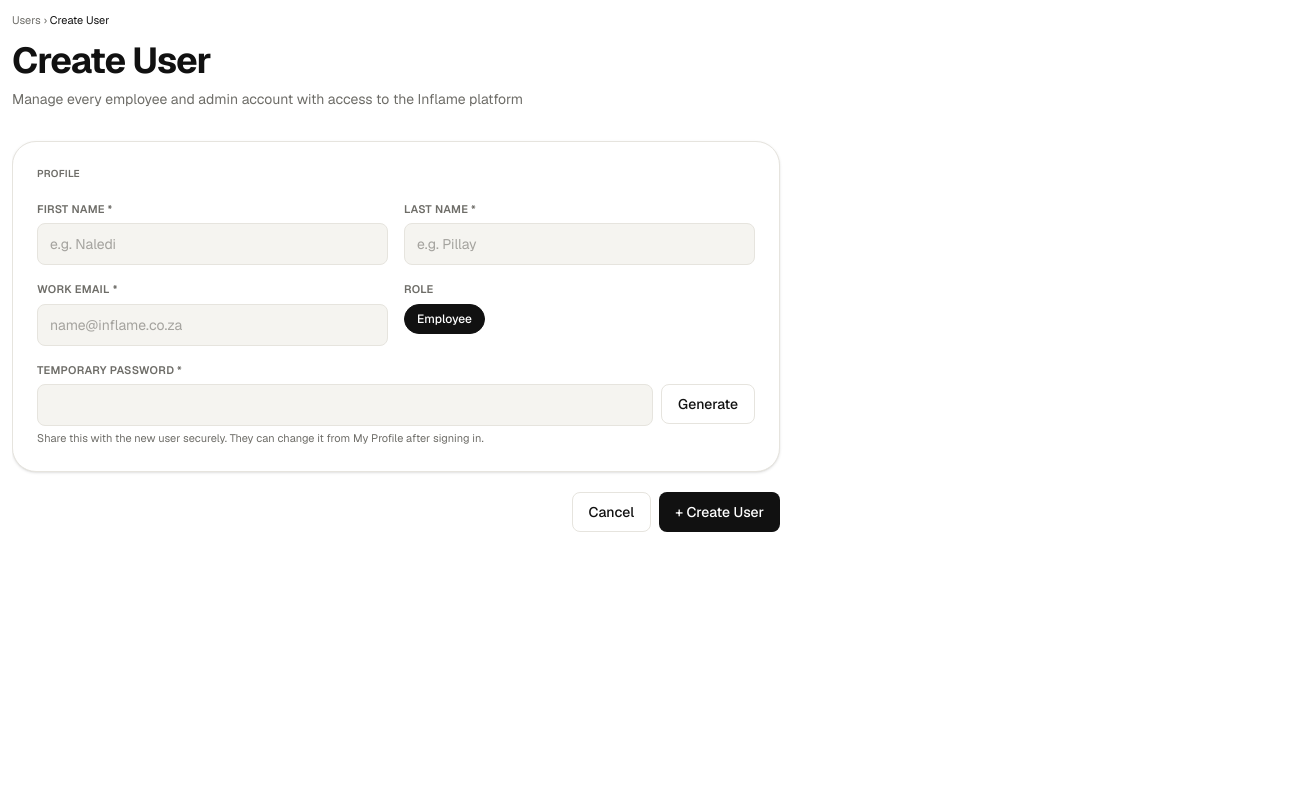
validation › rejects a missing first name
Type "X" into the field labelled "Last Name *".
click(580, 244); type("X")  # box [404,223,755,265]
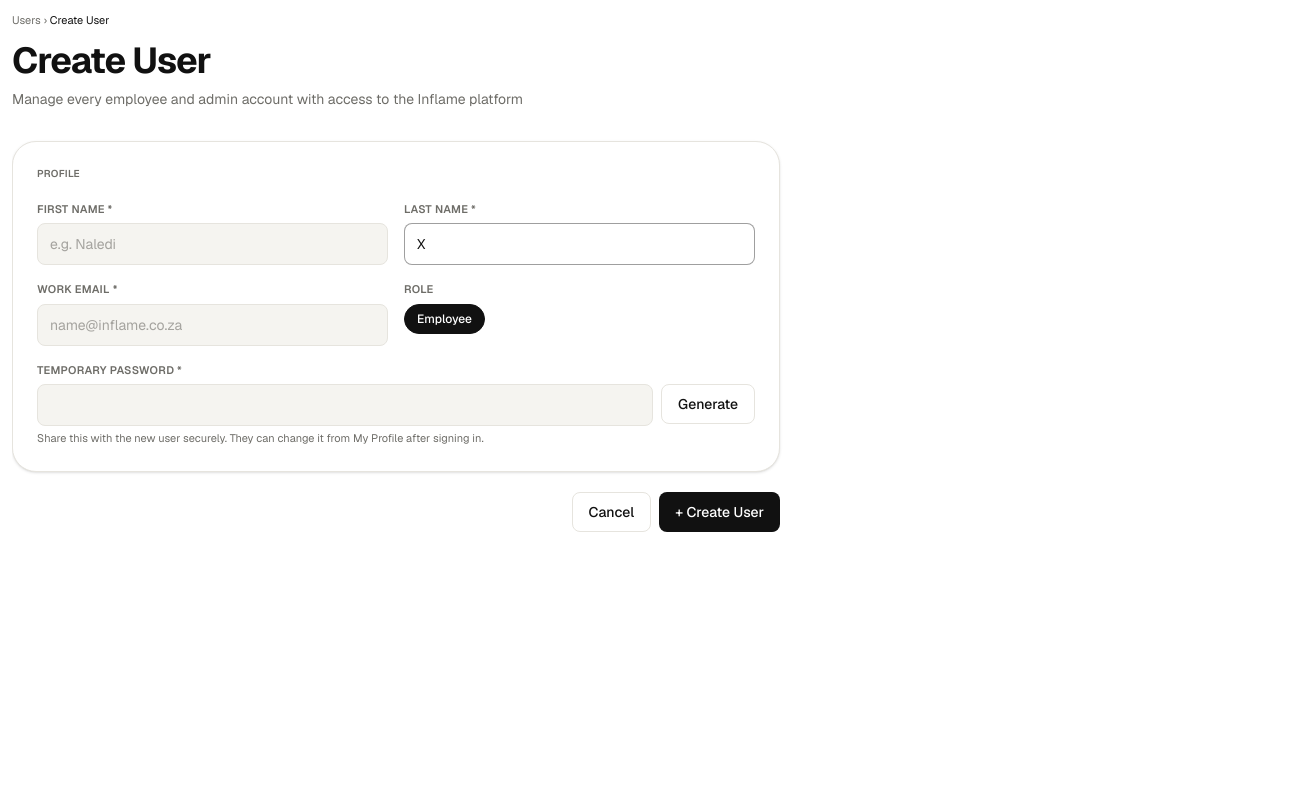
Type "x@y.co" into the field labelled "Work Email *".
click(212, 324); type("x@y.co")  # box [37,304,388,346]
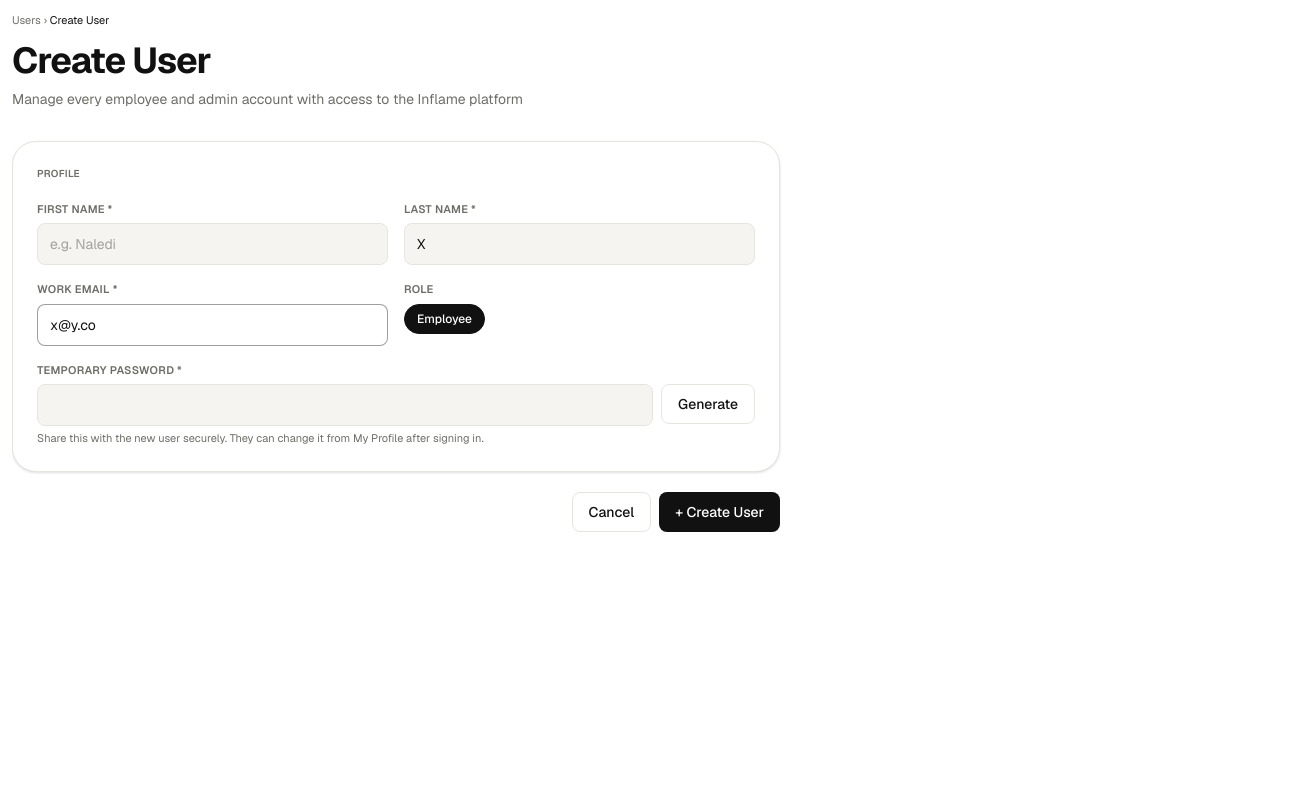
Type "pw12345678" into the field labelled "Temporary Password".
click(345, 405); type("pw12345678")  # box [37,384,653,426]
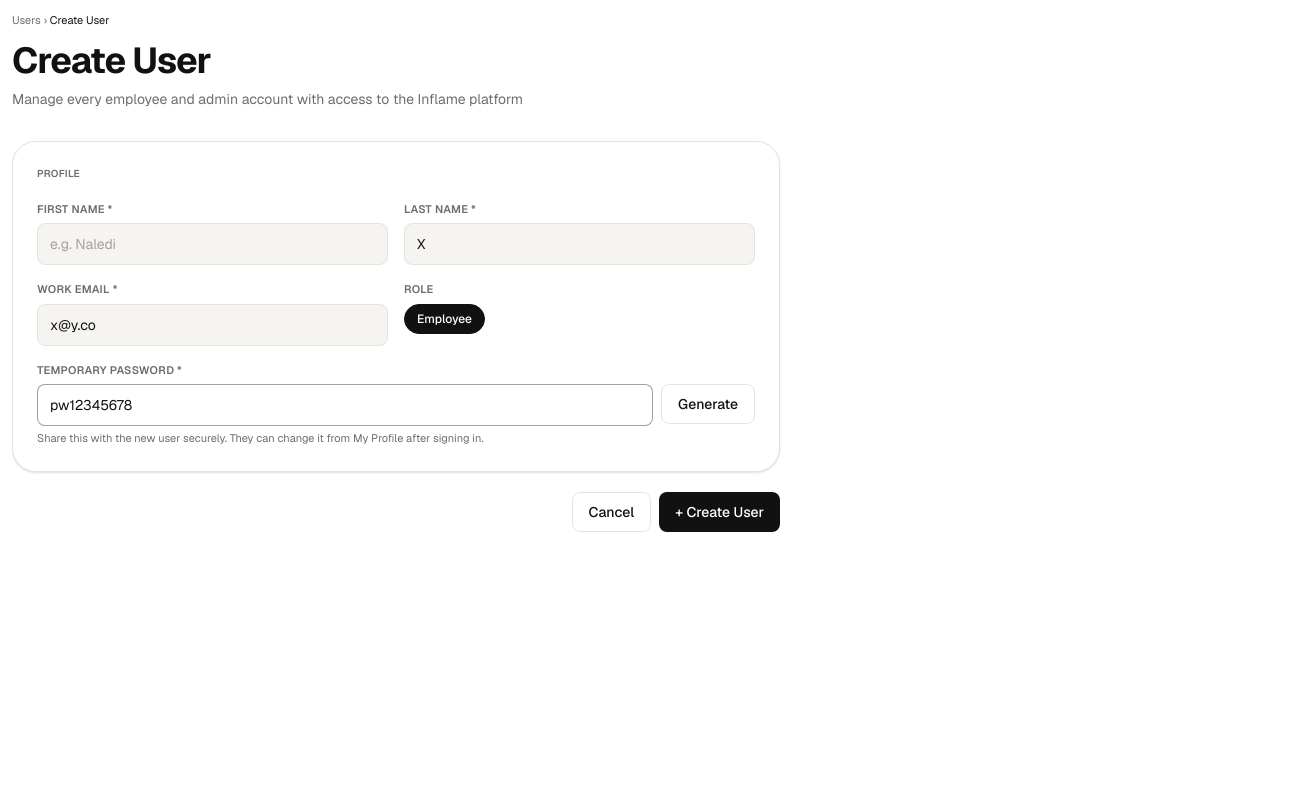
Click the button "+ Create User".
click(720, 512)  # box [659,492,780,532]
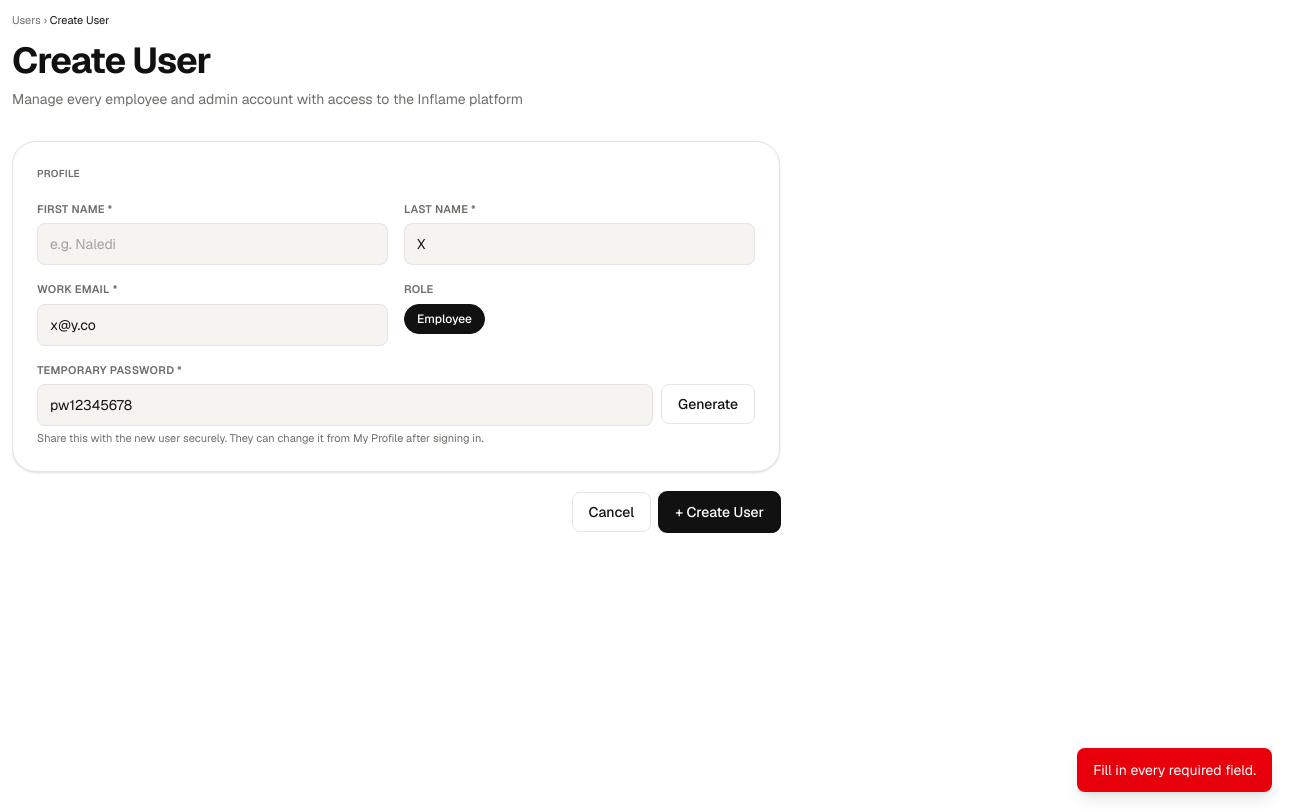
expect the text "Fill in every required field." is shown: met, box [1077,748,1272,792]
